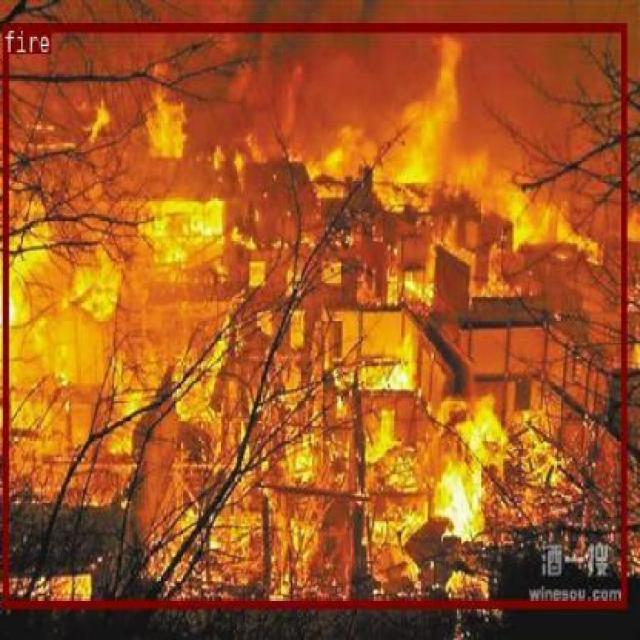Fire: (1, 22, 626, 607)
